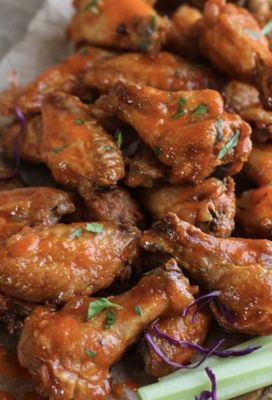sandwich: (0, 6, 271, 398)
